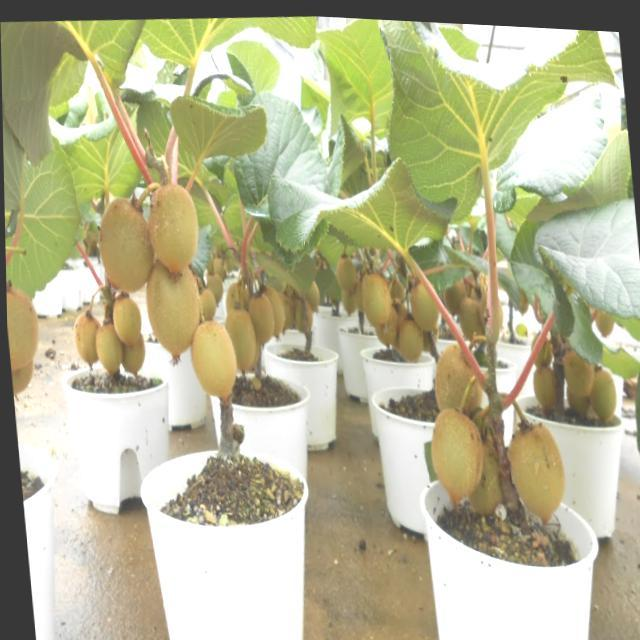kiwi: (504, 413, 566, 519), (142, 253, 203, 357), (95, 195, 156, 295), (425, 402, 486, 496), (144, 179, 202, 274), (430, 337, 484, 420), (186, 313, 236, 395), (459, 426, 504, 513), (6, 285, 42, 372), (223, 304, 257, 369), (359, 267, 392, 323), (561, 338, 595, 392), (70, 310, 101, 368), (408, 274, 440, 327), (111, 294, 143, 344), (587, 361, 617, 414), (256, 283, 285, 337), (222, 280, 250, 334), (93, 321, 122, 373), (248, 291, 276, 344), (457, 292, 485, 339), (396, 311, 423, 358), (530, 356, 556, 402), (371, 301, 399, 342), (440, 272, 467, 309), (528, 326, 553, 365), (334, 252, 356, 291), (297, 274, 321, 309), (338, 273, 358, 313), (593, 296, 614, 330), (292, 295, 312, 330), (204, 268, 224, 300), (197, 287, 217, 318)
